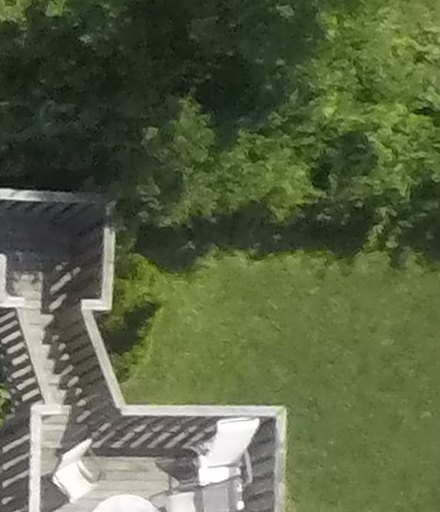porch: (2, 184, 303, 512)
